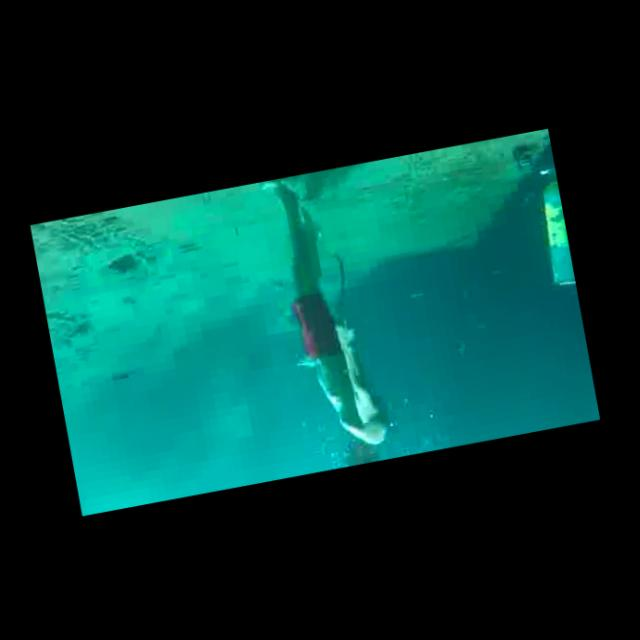human: (259, 166, 401, 473)
